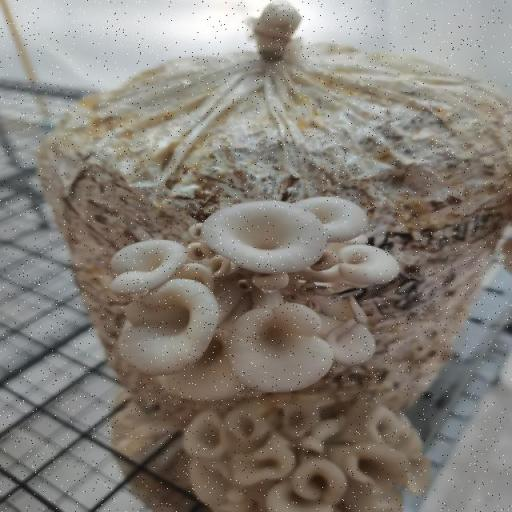White Oyster Mushroom: (105, 187, 408, 405), (181, 405, 432, 512)
